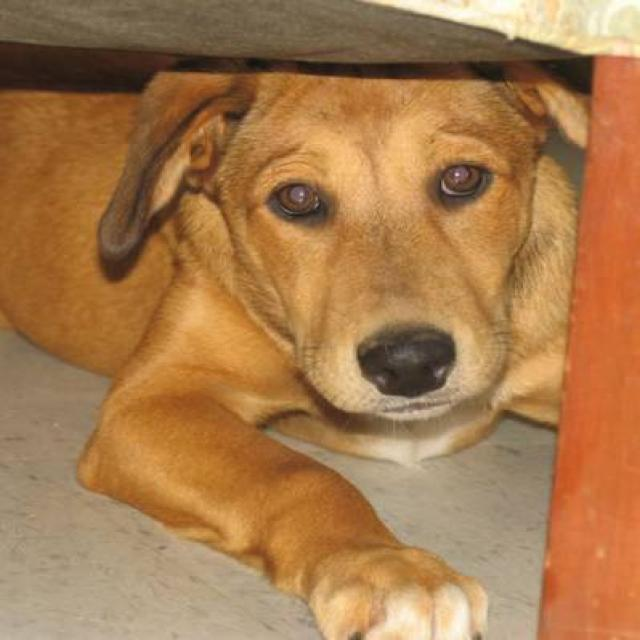dogs: (0, 50, 593, 640)
